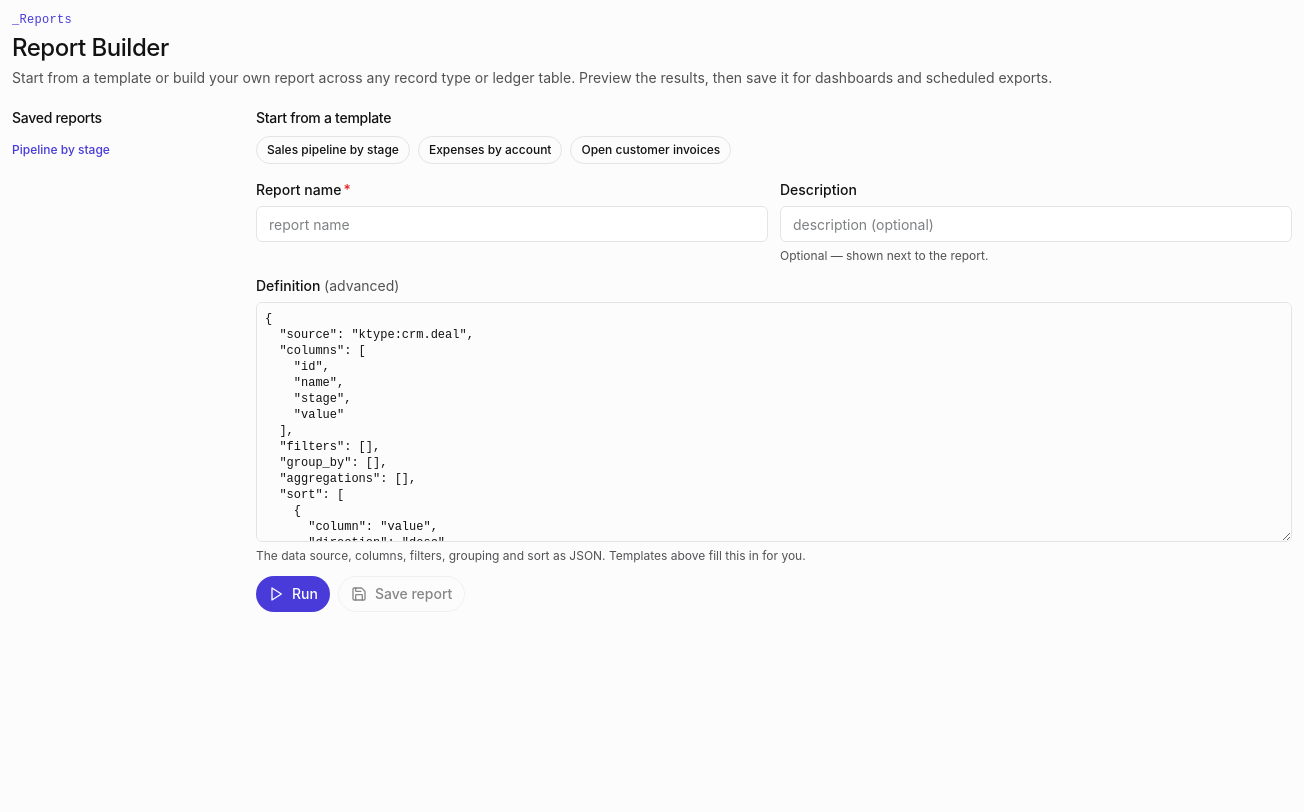
Test: ReportBuilderPage › loads a saved report into the editor when clicked
Click the button "Pipeline by stage" at (61, 150), box [12,142,110,158]
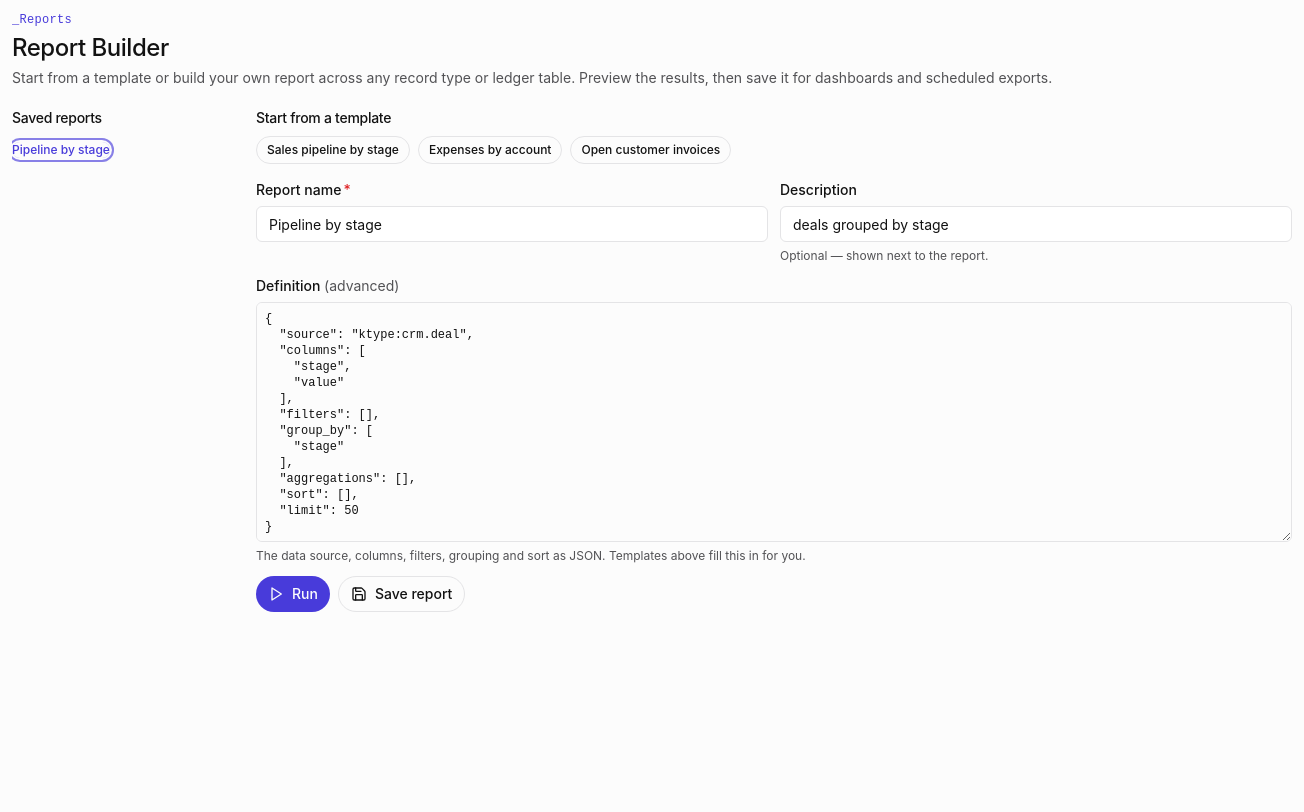
Expected: the field showing "Pipeline by stage" is shown, [256,206,768,242]
Expected: the field showing "deals grouped by stage" is shown, [780,206,1292,242]
